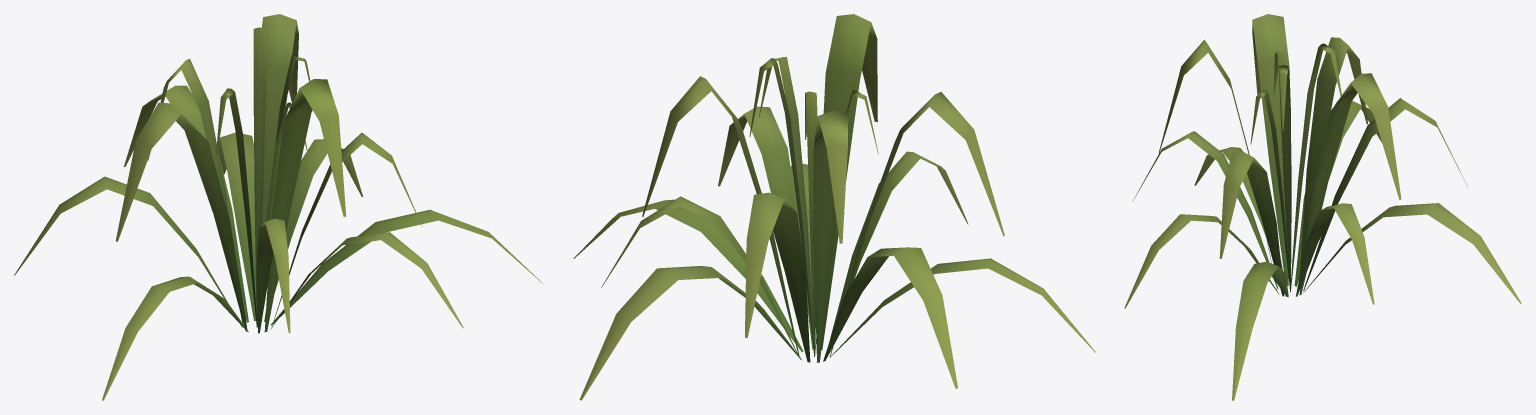
3 renders of one model, left to right at view 1: azimuth 30°, elevation 25°; view 2: azimuth 150°, elevation 25°; view 3: azimuth 270°, elevation 25°, orthographic. The views are drawn at different scales.
Parts seen in each view (by area): view 1: Leaves; view 2: Leaves; view 3: Leaves.
Boxes of the visible parts, bbox=[...] form: Leaves: bbox=[14, 14, 542, 400]; Leaves: bbox=[573, 14, 1095, 400]; Leaves: bbox=[1124, 14, 1521, 400].
Bounding box in the file's own units: 1.25 × 0.7327 × 1.03.
